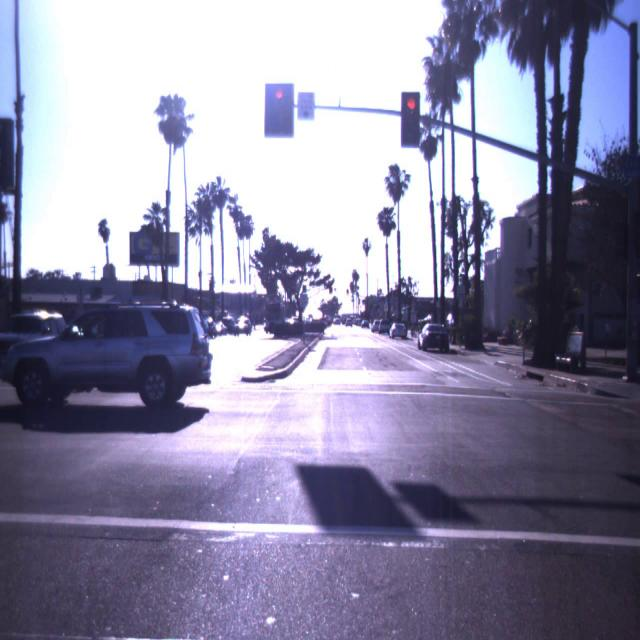kirmizi: (265, 84, 294, 137), (402, 92, 419, 148)
